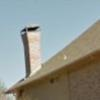chimneys: (20, 23, 42, 78)
